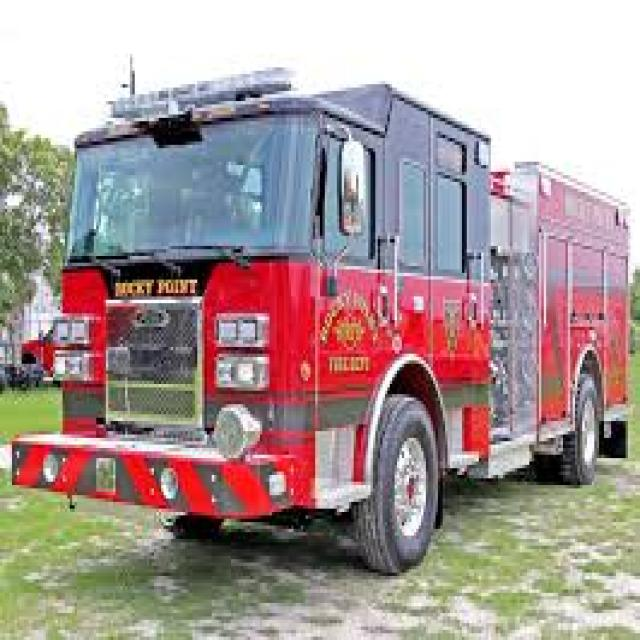Firetruck: (14, 62, 640, 590)
